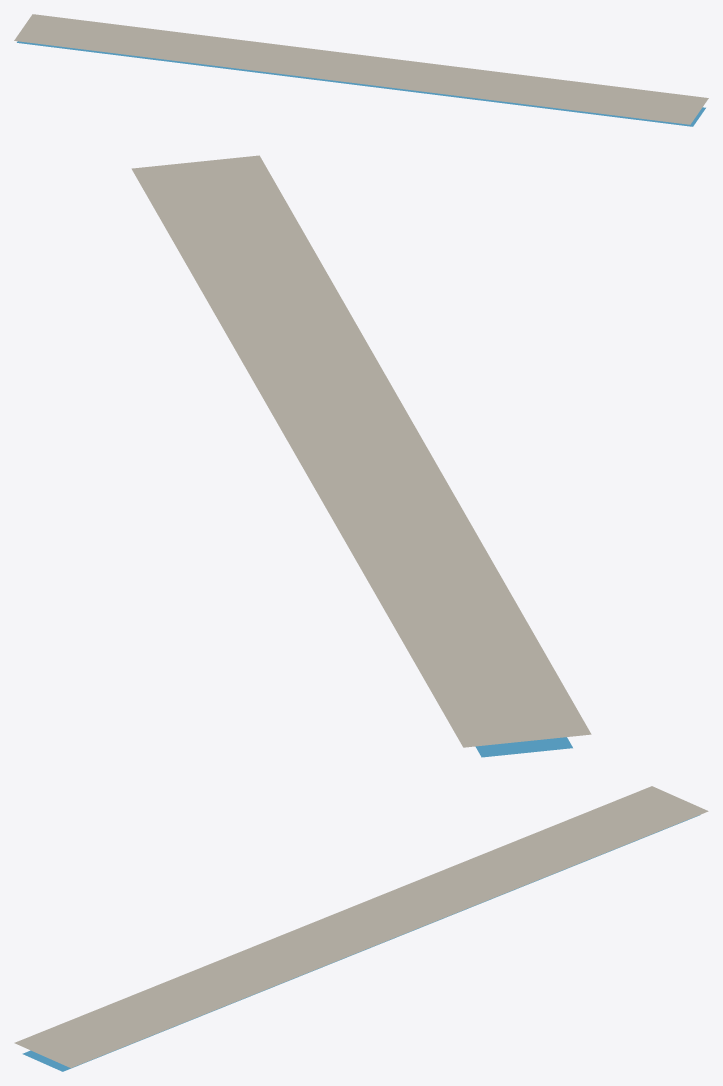
3 renders of one model, top to bottom at view 1: azimuth 30°, elevation 25°; view 2: azimuth 150°, elevation 25°; view 3: azimuth 270°, elevation 25°, orthographic. The views are drawn at different scales.
Visible parts, largest first — view 1: estructura_terreno, estructura_agua; view 2: estructura_terreno, estructura_agua; view 3: estructura_terreno, estructura_agua.
Boxes of the visible parts, x1,y1,x2,y2 form: estructura_terreno: (14,14,708,124); estructura_agua: (17,41,705,126); estructura_terreno: (131,155,591,747); estructura_agua: (475,737,572,757); estructura_terreno: (14,786,708,1067); estructura_agua: (22,815,699,1071).
Bounding box in the file's own units: 33.99 × 0.41 × 35.37.
